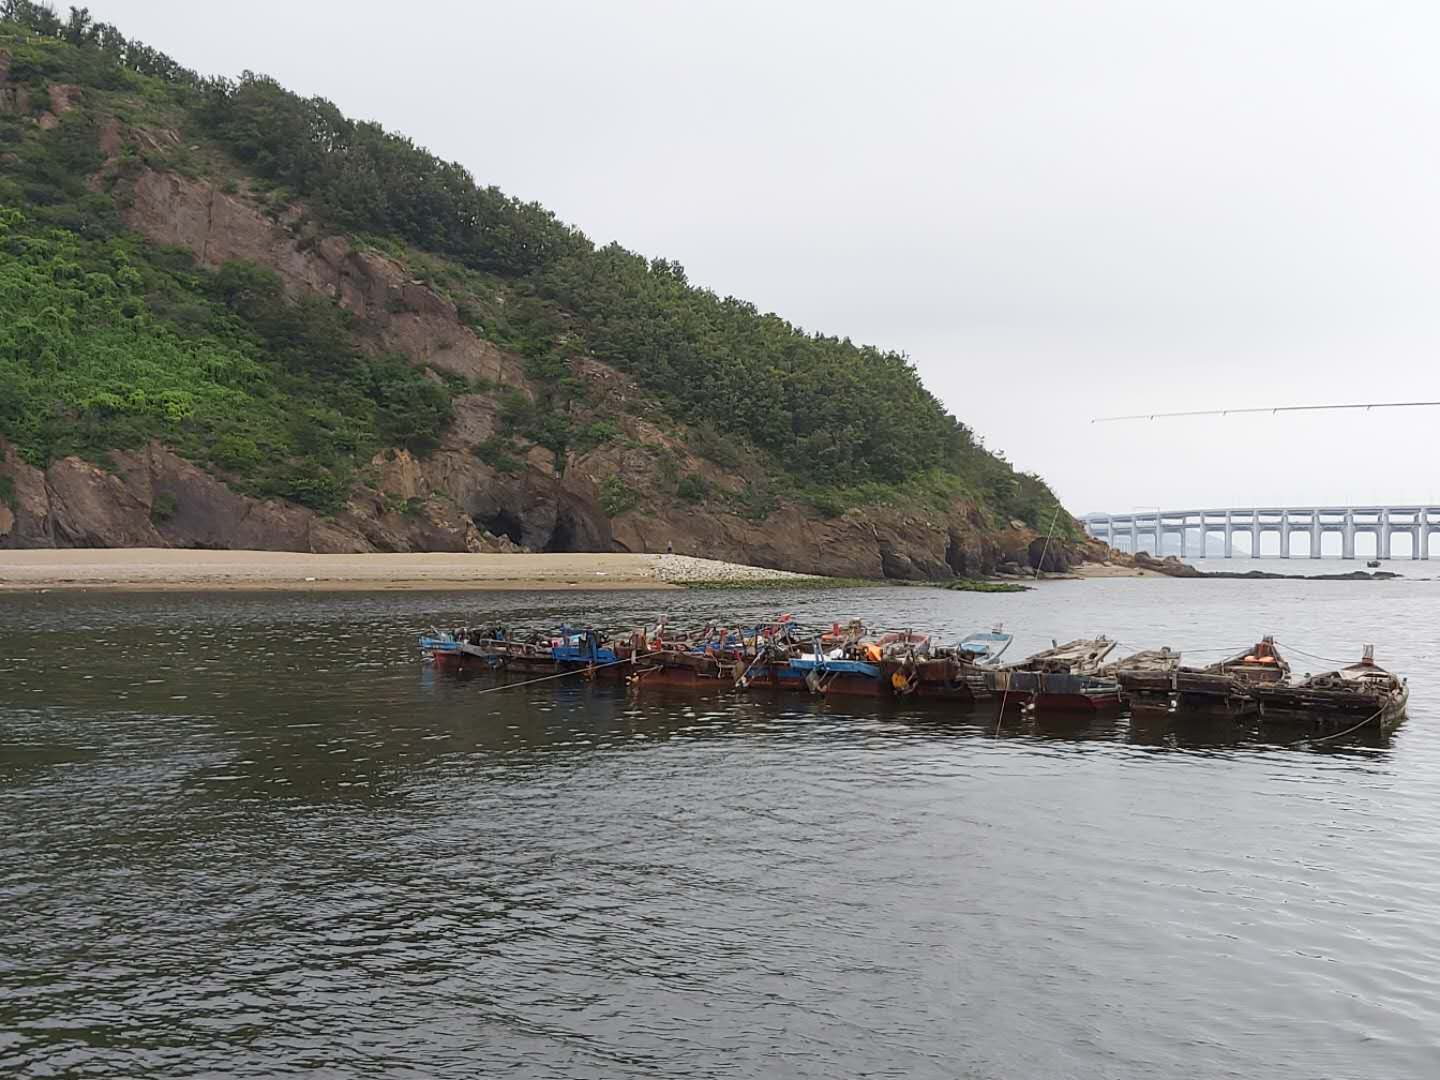boat: (1116, 635, 1289, 727), (1251, 641, 1412, 736), (967, 613, 1111, 709), (634, 597, 783, 687), (881, 604, 1009, 706), (736, 602, 861, 693), (1031, 639, 1177, 716), (803, 611, 925, 703), (410, 597, 522, 673), (544, 610, 655, 680), (481, 610, 588, 681)
bridge: (1079, 500, 1440, 567)
rock: (1234, 560, 1417, 589)
